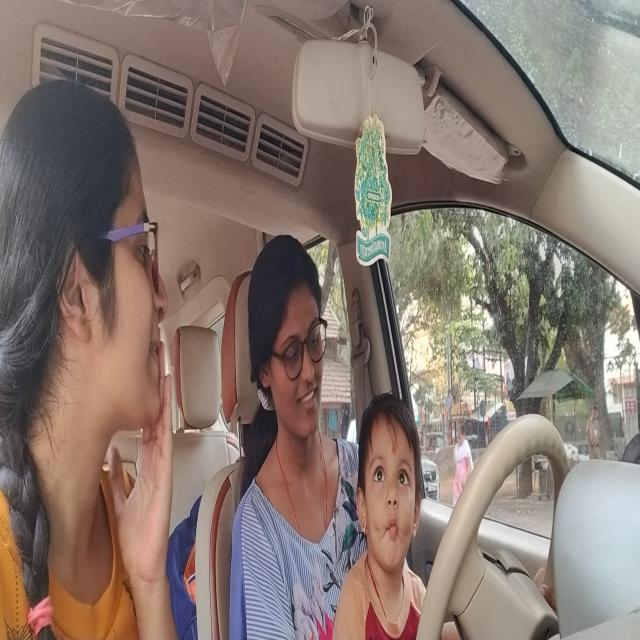child: (352, 387, 427, 571)
person: (1, 70, 173, 501), (244, 223, 329, 450)
